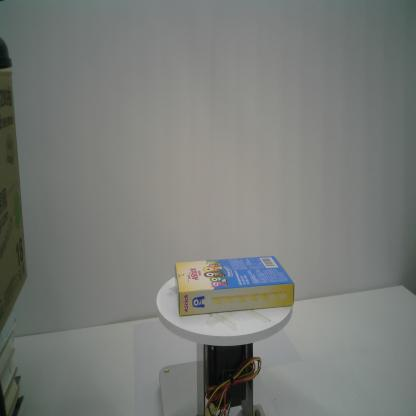Dessert: (173, 254, 295, 317)
